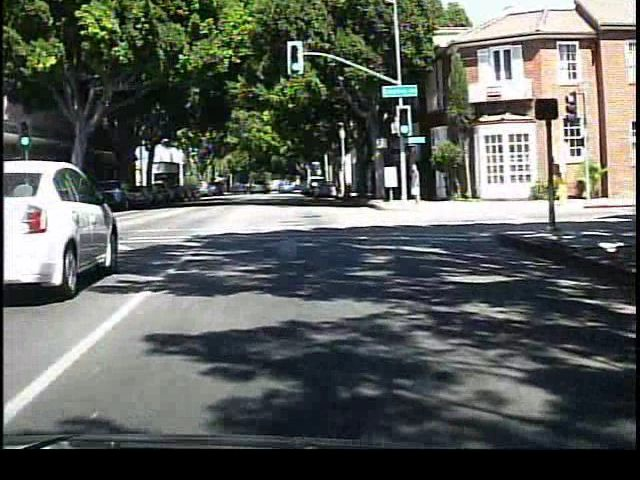person: (408, 158, 429, 210)
